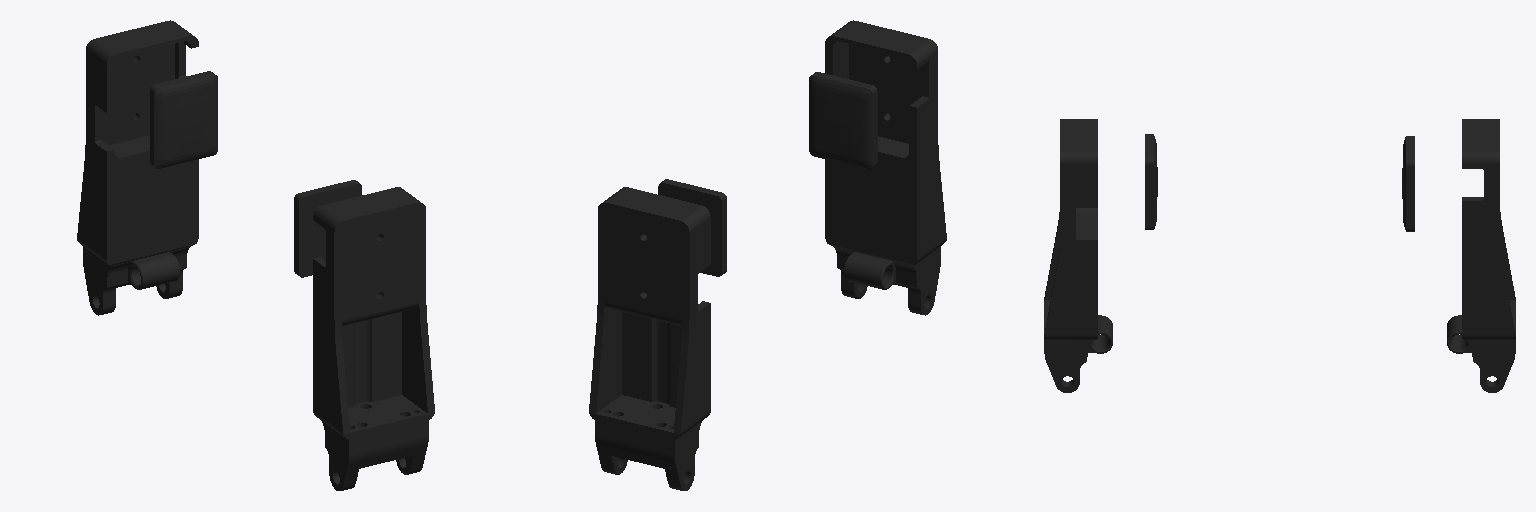
robot.urdf — rh_p12_rn_a:
<?xml version="1.0" ?>
<!-- =================================================================================== -->
<!-- |    This document was autogenerated by xacro from rh_p12_rn_a.xacro              | -->
<!-- |    EDITING THIS FILE BY HAND IS NOT RECOMMENDED                                 | -->
<!-- =================================================================================== -->
<robot name="rh_p12_rn_a">
  <!-- ros_control plugin -->
  <gazebo>
    <plugin filename="libgazebo_ros_control.so" name="gazebo_ros_control">
      <robotNamespace>/rh_p12_rn_a</robotNamespace>
      <robotSimType>gazebo_ros_control/DefaultRobotHWSim</robotSimType>
      <legacyModeNS>true</legacyModeNS>
    </plugin>
  </gazebo>
  <!-- World -->
  <gazebo reference="world">
  </gazebo>
  <!-- rh_p12_rn_base -->
  <gazebo reference="rh_p12_rn_base">
    <mu1>0.2</mu1>
    <mu2>0.2</mu2>
    <material>Gazebo/Grey</material>
  </gazebo>
  <!-- rh_p12_rn_r1 -->
  <gazebo reference="rh_p12_rn_r1">
    <mu1>0.2</mu1>
    <mu2>0.2</mu2>
    <material>Gazebo/Grey</material>
  </gazebo>
  <!-- rh_p12_rn_r2 -->
  <gazebo reference="rh_p12_rn_r_liaison">
    <mu1>0.2</mu1>
    <mu2>0.2</mu2>
    <material>Gazebo/Grey</material>
  </gazebo>
  <!-- rh_p12_rn_l1 -->
  <gazebo reference="rh_p12_rn_l1">
    <mu1>0.2</mu1>
    <mu2>0.2</mu2>
    <material>Gazebo/Grey</material>
  </gazebo>
  <!-- rh_p12_rn_l2 -->
  <gazebo reference="rh_p12_rn_l_liaison">
    <mu1>0.2</mu1>
    <mu2>0.2</mu2>
    <material>Gazebo/Grey</material>
  </gazebo>
  <material name="black">
    <color rgba="0.0 0.0 0.0 1.0"/>
  </material>
  <material name="blue">
    <color rgba="0.0 0.0 0.8 1.0"/>
  </material>
  <material name="green">
    <color rgba="0.0 0.8 0.0 1.0"/>
  </material>
  <material name="grey">
    <color rgba="0.2 0.2 0.2 1.0"/>
  </material>
  <material name="orange">
    <color rgba="1.0 0.4235294117647059 0.0392156862745098 1.0"/>
  </material>
  <material name="brown">
    <color rgba="0.8705882352941177 0.8117647058823529 0.7647058823529411 1.0"/>
  </material>
  <material name="red">
    <color rgba="0.8 0.0 0.0 1.0"/>
  </material>
  <material name="white">
    <color rgba="1.0 1.0 1.0 1.0"/>
  </material>
  <!-- Used for fixing robot to Gazebo 'link 1' -->
  <link name="world">
  </link>
  <joint name="world_fixed" type="fixed">
    <origin rpy="0 0 0" xyz="0 0 0"/>
    <parent link="world"/>
    <child link="rh_p12_rn_base"/>
  </joint>
  <!-- base -->
  <link name="rh_p12_rn_base">
    <collision>
      <origin rpy="0 0 0" xyz="0 0 0"/>
      <geometry>
        <mesh filename="package://rh_p12_rn_a_description/meshes/base.stl" scale="0.001 0.001 0.001"/>
      </geometry>
    </collision>
    <visual>
      <origin rpy="0 0 0" xyz="0 0 0"/>
      <geometry>
        <mesh filename="package://rh_p12_rn_a_description/meshes/base.stl" scale="0.001 0.001 0.001"/>
      </geometry>
      <material name="grey"/>
    </visual>
    <inertial>
      <origin rpy="0 0 0" xyz="0.000 0.000 0.032"/>
      <mass value="0.236"/>
      <!--<inertia ixx="0.00017" ixy="0.0" ixz="0.0" iyy="0.00011" iyz="0.0" izz="0.00017" />-->
      <inertia ixx="1.0" ixy="0.0" ixz="0.0" iyy="1.0" iyz="0.0" izz="1.0"/>
    </inertial>
  </link>
  <!-- Joint -->
  <joint name="rh_p12_rn_a" type="revolute">
    <parent link="rh_p12_rn_base"/>
    <child link="rh_p12_rn_r1"/>
    <origin rpy="0 0 0" xyz="0.0 0.008 0.048"/>
    <axis xyz="1 0 0"/>
    <limit effort="1000" lower="0.0" upper="1.1" velocity="6.5"/>
    <dynamics damping="0.7"/>
  </joint>
  <transmission name="tran_r1">
    <type>transmission_interface/SimpleTransmission</type>
    <joint name="rh_p12_rn_a">
      <hardwareInterface>hardware_interface/EffortJointInterface</hardwareInterface>
    </joint>
    <actuator name="motor_r1">
      <hardwareInterface>hardware_interface/EffortJointInterface</hardwareInterface>
      <mechanicalReduction>1</mechanicalReduction>
    </actuator>
  </transmission>
  <!-- rh_p12_rn_r1 -->
  <link name="rh_p12_rn_r1">
    <collision>
      <origin rpy="0 0 0" xyz="0 0 0"/>
      <geometry>
        <mesh filename="package://rh_p12_rn_a_description/meshes/r1.stl" scale="0.001 0.001 0.001"/>
      </geometry>
    </collision>
    <visual>
      <origin rpy="0 0 0" xyz="0 0 0"/>
      <geometry>
        <mesh filename="package://rh_p12_rn_a_description/meshes/r1.stl" scale="0.001 0.001 0.001"/>
      </geometry>
      <material name="grey"/>
    </visual>
    <inertial>
      <origin rpy="0 0 0" xyz="0.000 0.034 0.004"/>
      <mass value="0.068"/>
      <!--<inertia ixx="0.00004" ixy="0.0" ixz="0.0" iyy="0.00002" iyz="-0.00001" izz="0.00002" />-->
      <inertia ixx="1.0" ixy="0.0" ixz="0.0" iyy="1.0" iyz="0.0" izz="1.0"/>
    </inertial>
  </link>
  <!-- Right Joint 2 -->
  <joint name="rh_r_liaison" type="revolute">
    <parent link="rh_p12_rn_r1"/>
    <child link="rh_p12_rn_r_liaison"/>
    <origin rpy="0 0 3.1415927" xyz="0.0 0.0493634 0.0285"/>
    <axis xyz="1 0 0"/>
    <limit effort="1000" lower="0.0" upper="1.0" velocity="6.5"/>
    <dynamics damping="0.7"/>
  </joint>
  <transmission name="tran_r2">
    <type>transmission_interface/SimpleTransmission</type>
    <joint name="rh_r_liaison">
      <hardwareInterface>hardware_interface/EffortJointInterface</hardwareInterface>
    </joint>
    <actuator name="motor_r2">
      <hardwareInterface>hardware_interface/EffortJointInterface</hardwareInterface>
      <mechanicalReduction>1</mechanicalReduction>
    </actuator>
  </transmission>
  <!-- rh_p12_rn_r_liaison -->
  <link name="rh_p12_rn_r_liaison">
    <collision>
      <origin rpy="0 0 0" xyz="0 0 0"/>
      <geometry>
        <mesh filename="package://rh_p12_rn_a_description/meshes/liaison.stl" scale="0.001 0.001 0.001"/>
      </geometry>
    </collision>
    <visual>
      <origin rpy="0 0 0" xyz="0 0 0"/>
      <geometry>
        <mesh filename="package://rh_p12_rn_a_description/meshes/liaison.stl" scale="0.001 0.001 0.001"/>
      </geometry>
      <material name="grey"/>
    </visual>
    <inertial>
      <origin rpy="0 0 0" xyz="0.000 -0.006 0.011"/>
      <mass value="0.022"/>
      <!--<inertia ixx="0.0" ixy="0.0" ixz="0.0" iyy="0.00001" iyz="0.0" izz="0.0" />-->
      <inertia ixx="1.0" ixy="0.0" ixz="0.0" iyy="1.0" iyz="0.0" izz="1.0"/>
    </inertial>
  </link>
  <!-- Right Joint 2 -->
  <joint name="rh_r_liaison_to_support" type="fixed">
    <parent link="rh_p12_rn_r_liaison"/>
    <child link="rh_p12_rn_r_support"/>
    <origin rpy="-1.5707963 0.0 3.1415927" xyz="0.00000000085 0.007 -0.0067"/>
    <axis xyz="1 0 0"/>
    <limit effort="1000" lower="0.0" upper="1.0" velocity="6.5"/>
    <dynamics damping="0.7"/>
  </joint>
  <!-- rh_p12_rn_r_liaison -->
  <link name="rh_p12_rn_r_support">
    <collision>
      <origin rpy="0 0 0" xyz="0 0 0"/>
      <geometry>
        <mesh filename="package://rh_p12_rn_a_description/meshes/support_finger.stl" scale="0.001 0.001 0.001"/>
      </geometry>
    </collision>
    <visual>
      <origin rpy="0 0 0" xyz="0 0 0"/>
      <geometry>
        <mesh filename="package://rh_p12_rn_a_description/meshes/support_finger.stl" scale="0.001 0.001 0.001"/>
      </geometry>
      <material name="grey"/>
    </visual>
    <inertial>
      <origin rpy="0 0 0" xyz="0.000 -0.006 0.011"/>
      <mass value="0.022"/>
      <!--<inertia ixx="0.0" ixy="0.0" ixz="0.0" iyy="0.00001" iyz="0.0" izz="0.0" />-->
      <inertia ixx="1.0" ixy="0.0" ixz="0.0" iyy="1.0" iyz="0.0" izz="1.0"/>
    </inertial>
  </link>
  <!-- rh_p12_rn_r_sensor -->
  <link name="rh_p12_rn_r_sensor">
    <collision>
      <origin rpy="0 0 0" xyz="0 0 0"/>
      <geometry>
        <mesh filename="package://rh_p12_rn_a_description/meshes/gelsight_without_pad.stl" scale="0.001 0.001 0.001"/>
      </geometry>
    </collision>
    <visual>
      <origin rpy="0 0 0" xyz="0 0 0"/>
      <geometry>
        <mesh filename="package://rh_p12_rn_a_description/meshes/gelsight_without_pad.stl" scale="0.001 0.001 0.001"/>
      </geometry>
      <material name="grey"/>
    </visual>
    <inertial>
      <origin rpy="0 0 0" xyz="0.000 -0.006 0.011"/>
      <mass value="0.022"/>
      <!--<inertia ixx="0.0" ixy="0.0" ixz="0.0" iyy="0.00001" iyz="0.0" izz="0.0" />-->
      <inertia ixx="1.0" ixy="0.0" ixz="0.0" iyy="1.0" iyz="0.0" izz="1.0"/>
    </inertial>
  </link>
  <!-- Right Joint 2 -->
  <joint name="rh_r_support_to_sensor" type="fixed">
    <parent link="rh_p12_rn_r_support"/>
    <child link="rh_p12_rn_r_sensor"/>
    <origin rpy="-1.5707963 0.0 1.5707963" xyz="0.00000000011 -0.060 0.012"/>
  </joint>
  <!-- rh_p12_rn_r_pad -->
  <link name="rh_p12_rn_r_pad">
    <collision>
      <origin rpy="0 0 0" xyz="0 0 0"/>
      <geometry>
        <mesh filename="package://rh_p12_rn_a_description/meshes/pad.stl" scale="0.001 0.001 0.001"/>
      </geometry>
    </collision>
    <visual>
      <origin rpy="0 0 0" xyz="0 0 0"/>
      <geometry>
        <mesh filename="package://rh_p12_rn_a_description/meshes/pad.stl" scale="0.001 0.001 0.001"/>
      </geometry>
      <material name="grey"/>
    </visual>
    <inertial>
      <origin rpy="0 0 0" xyz="0.000 -0.006 0.011"/>
      <mass value="0.022"/>
      <!--<inertia ixx="0.0" ixy="0.0" ixz="0.0" iyy="0.00001" iyz="0.0" izz="0.0" />-->
      <inertia ixx="1.0" ixy="0.0" ixz="0.0" iyy="1.0" iyz="0.0" izz="1.0"/>
    </inertial>
  </link>
  <!-- Right Joint 2 -->
  <joint name="rh_r_sensor_to_pad" type="fixed">
    <parent link="rh_p12_rn_r_sensor"/>
    <child link="rh_p12_rn_r_pad"/>
    <origin rpy="0.0 0.0 0.0" xyz="0.0 0.0 0.0"/>
  </joint>
  <!-- Left Joint 1 -->
  <joint name="rh_l1" type="revolute">
    <parent link="rh_p12_rn_base"/>
    <child link="rh_p12_rn_l1"/>
    <origin rpy="0 0 0" xyz="0.0 -0.008 0.048"/>
    <axis xyz="-1 0 0"/>
    <limit effort="1000" lower="0.0" upper="1.1" velocity="6.5"/>
    <dynamics damping="0.7"/>
  </joint>
  <transmission name="tran_l1">
    <type>transmission_interface/SimpleTransmission</type>
    <joint name="rh_l1">
      <hardwareInterface>hardware_interface/EffortJointInterface</hardwareInterface>
    </joint>
    <actuator name="motor_l1">
      <hardwareInterface>hardware_interface/EffortJointInterface</hardwareInterface>
      <mechanicalReduction>1</mechanicalReduction>
    </actuator>
  </transmission>
  <!-- rh_p12_rn_l1 -->
  <link name="rh_p12_rn_l1">
    <collision>
      <origin rpy="0 0 0" xyz="0 0 0"/>
      <geometry>
        <mesh filename="package://rh_p12_rn_a_description/meshes/l1.stl" scale="0.001 0.001 0.001"/>
      </geometry>
    </collision>
    <visual>
      <origin rpy="0 0 0" xyz="0 0 0"/>
      <geometry>
        <mesh filename="package://rh_p12_rn_a_description/meshes/l1.stl" scale="0.001 0.001 0.001"/>
      </geometry>
      <material name="grey"/>
    </visual>
    <inertial>
      <origin rpy="0 0 0" xyz="0.000 -0.034 0.004"/>
      <mass value="0.068"/>
      <!--<inertia ixx="0.00004" ixy="0.0" ixz="0.0" iyy="0.00002" iyz="0.00001" izz="0.00002" />-->
      <inertia ixx="1.0" ixy="0.0" ixz="0.0" iyy="1.0" iyz="0.0" izz="1.0"/>
    </inertial>
  </link>
  <!-- Left Joint 2 -->
  <joint name="rh_l_liaison" type="revolute">
    <parent link="rh_p12_rn_l1"/>
    <child link="rh_p12_rn_l_liaison"/>
    <origin rpy="0 0 0" xyz="0.0 -0.0493634 0.0285"/>
    <axis xyz="1 0 0"/>
    <limit effort="1000" lower="0.0" upper="1.0" velocity="6.5"/>
    <dynamics damping="0.7"/>
  </joint>
  <transmission name="tran_l2">
    <type>transmission_interface/SimpleTransmission</type>
    <joint name="rh_l_liaison">
      <hardwareInterface>hardware_interface/EffortJointInterface</hardwareInterface>
    </joint>
    <actuator name="motor_l2">
      <hardwareInterface>hardware_interface/EffortJointInterface</hardwareInterface>
      <mechanicalReduction>1</mechanicalReduction>
    </actuator>
  </transmission>
  <!-- rh_p12_rn_l_liaison -->
  <link name="rh_p12_rn_l_liaison">
    <collision>
      <origin rpy="0 0 0" xyz="0 0 0"/>
      <geometry>
        <mesh filename="package://rh_p12_rn_a_description/meshes/liaison.stl" scale="0.001 0.001 0.001"/>
      </geometry>
    </collision>
    <visual>
      <origin rpy="0 0 0" xyz="0 0 0"/>
      <geometry>
        <mesh filename="package://rh_p12_rn_a_description/meshes/liaison.stl" scale="0.001 0.001 0.001"/>
      </geometry>
      <material name="grey"/>
    </visual>
    <inertial>
      <origin rpy="0 0 0" xyz="0.000 -0.006 0.011"/>
      <mass value="0.022"/>
      <!--<inertia ixx="0.0" ixy="0.0" ixz="0.0" iyy="0.00001" iyz="0.0" izz="0.0" />-->
      <inertia ixx="1.0" ixy="0.0" ixz="0.0" iyy="1.0" iyz="0.0" izz="1.0"/>
    </inertial>
  </link>
  <!-- Left Joint 2 -->
  <joint name="rh_l_liaison_to_support" type="fixed">
    <parent link="rh_p12_rn_l_liaison"/>
    <child link="rh_p12_rn_l_support"/>
    <origin rpy="-1.5707963 0.0 3.1415927" xyz="0.00000000085 0.007 -0.0067"/>
    <axis xyz="1 0 0"/>
    <limit effort="1000" lower="0.0" upper="1.0" velocity="6.5"/>
    <dynamics damping="0.7"/>
  </joint>
  <!-- rh_p12_rn_l_liaison -->
  <link name="rh_p12_rn_l_support">
    <collision>
      <origin rpy="0 0 0" xyz="0 0 0"/>
      <geometry>
        <mesh filename="package://rh_p12_rn_a_description/meshes/support_finger.stl" scale="0.001 0.001 0.001"/>
      </geometry>
    </collision>
    <visual>
      <origin rpy="0 0 0" xyz="0 0 0"/>
      <geometry>
        <mesh filename="package://rh_p12_rn_a_description/meshes/support_finger.stl" scale="0.001 0.001 0.001"/>
      </geometry>
      <material name="grey"/>
    </visual>
    <inertial>
      <origin rpy="0 0 0" xyz="0.000 -0.006 0.011"/>
      <mass value="0.022"/>
      <!--<inertia ixx="0.0" ixy="0.0" ixz="0.0" iyy="0.00001" iyz="0.0" izz="0.0" />-->
      <inertia ixx="1.0" ixy="0.0" ixz="0.0" iyy="1.0" iyz="0.0" izz="1.0"/>
    </inertial>
  </link>
  <!-- rh_p12_rn_l_liaison -->
  <link name="rh_p12_rn_l_sensor">
    <collision>
      <origin rpy="0 0 0" xyz="0 0 0"/>
      <geometry>
        <mesh filename="package://rh_p12_rn_a_description/meshes/gelsight_without_pad.stl" scale="0.001 0.001 0.001"/>
      </geometry>
    </collision>
    <visual>
      <origin rpy="0 0 0" xyz="0 0 0"/>
      <geometry>
        <mesh filename="package://rh_p12_rn_a_description/meshes/gelsight_without_pad.stl" scale="0.001 0.001 0.001"/>
      </geometry>
      <material name="grey"/>
    </visual>
    <inertial>
      <origin rpy="0 0 0" xyz="0.000 -0.006 0.011"/>
      <mass value="0.022"/>
      <!--<inertia ixx="0.0" ixy="0.0" ixz="0.0" iyy="0.00001" iyz="0.0" izz="0.0" />-->
      <inertia ixx="1.0" ixy="0.0" ixz="0.0" iyy="1.0" iyz="0.0" izz="1.0"/>
    </inertial>
  </link>
  <!-- Left Joint 2 -->
  <joint name="rh_l_support_to_sensor" type="fixed">
    <parent link="rh_p12_rn_l_support"/>
    <child link="rh_p12_rn_l_sensor"/>
    <origin rpy="-1.5707963 0.0 1.5707963" xyz="0.00000000011 -0.060 0.012"/>
  </joint>
  <!-- rh_p12_rn_l_liaison -->
  <link name="rh_p12_rn_l_pad">
    <collision>
      <origin rpy="0 0 0" xyz="0 0 0"/>
      <geometry>
        <mesh filename="package://rh_p12_rn_a_description/meshes/pad.stl" scale="0.001 0.001 0.001"/>
      </geometry>
    </collision>
    <visual>
      <origin rpy="0 0 0" xyz="0 0 0"/>
      <geometry>
        <mesh filename="package://rh_p12_rn_a_description/meshes/pad.stl" scale="0.001 0.001 0.001"/>
      </geometry>
      <material name="grey"/>
    </visual>
    <inertial>
      <origin rpy="0 0 0" xyz="0.000 -0.006 0.011"/>
      <mass value="0.022"/>
      <!--<inertia ixx="0.0" ixy="0.0" ixz="0.0" iyy="0.00001" iyz="0.0" izz="0.0" />-->
      <inertia ixx="1.0" ixy="0.0" ixz="0.0" iyy="1.0" iyz="0.0" izz="1.0"/>
    </inertial>
  </link>
  <!-- Left Joint 2 -->
  <joint name="rh_l_sensor_to_pad" type="fixed">
    <parent link="rh_p12_rn_l_sensor"/>
    <child link="rh_p12_rn_l_pad"/>
    <origin rpy="0.0 0.0 0.0" xyz="0.0 0.0 0.0"/>
  </joint>
</robot>

--- Facts derived from the render (not from the file) ---
The picture shows the robot from 3 angles, left to right: view 1: azimuth 30°, elevation 25°; view 2: azimuth 150°, elevation 25°; view 3: azimuth 270°, elevation 25°; orthographic projection.
Robot: rh_p12_rn_a — 12 links, 11 joints (4 revolute, 7 fixed); root link world; default pose: every joint at zero.
Visible links, largest first — view 1: rh_p12_rn_l_support, rh_p12_rn_r_support, rh_p12_rn_r_pad, rh_p12_rn_l_liaison, rh_p12_rn_r_liaison, rh_p12_rn_l_pad; view 2: rh_p12_rn_r_support, rh_p12_rn_l_support, rh_p12_rn_l_pad, rh_p12_rn_r_liaison, rh_p12_rn_l_liaison, rh_p12_rn_r_pad; view 3: rh_p12_rn_l_support, rh_p12_rn_r_support, rh_p12_rn_r_liaison, rh_p12_rn_l_liaison, rh_p12_rn_r_pad, rh_p12_rn_l_pad.
Link boxes in pixels (<box>): rh_p12_rn_l_support: <box>313,187,434,439</box>; rh_p12_rn_r_support: <box>77,20,198,265</box>; rh_p12_rn_r_pad: <box>150,71,217,168</box>; rh_p12_rn_l_liaison: <box>322,421,428,490</box>; rh_p12_rn_r_liaison: <box>83,246,189,315</box>; rh_p12_rn_l_pad: <box>294,180,361,277</box>; rh_p12_rn_r_support: <box>589,187,710,439</box>; rh_p12_rn_l_support: <box>825,20,946,265</box>; rh_p12_rn_l_pad: <box>809,72,877,169</box>; rh_p12_rn_r_liaison: <box>595,421,701,490</box>; rh_p12_rn_l_liaison: <box>834,246,940,315</box>; rh_p12_rn_r_pad: <box>658,179,726,276</box>; rh_p12_rn_l_support: <box>1044,119,1097,339</box>; rh_p12_rn_r_support: <box>1462,119,1515,339</box>; rh_p12_rn_r_liaison: <box>1447,315,1515,392</box>; rh_p12_rn_l_liaison: <box>1044,315,1112,392</box>; rh_p12_rn_r_pad: <box>1402,136,1414,231</box>; rh_p12_rn_l_pad: <box>1145,134,1157,229</box>.
Bounding box of the posed robot: 0.03 × 0.1507 × 0.0849 m (x, y, z).
6 mesh visuals loaded from 7 distinct referenced files (3 binary STL); not drawn: 5 (reference not matched to a file when rendering).